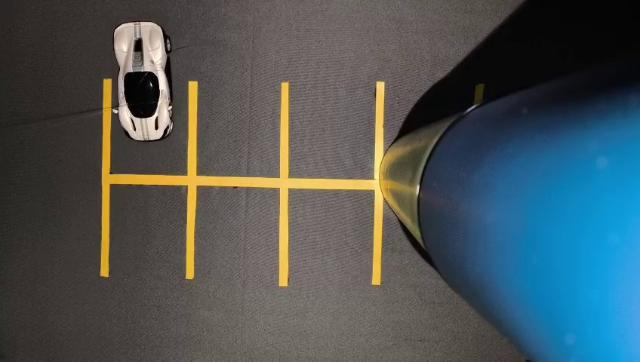toy_car: (85, 1, 188, 168)
